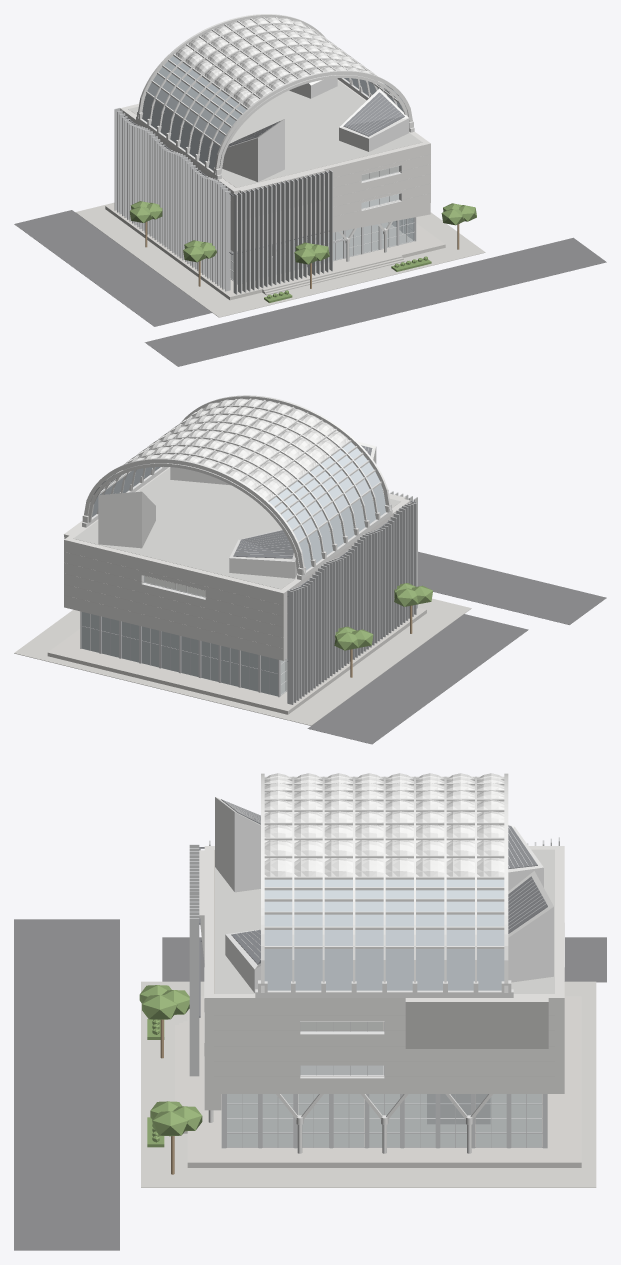
File: clay-vaulted-lecture-hall-clay-v003.glb
3 views of the same model, one above another, from view 1: azimuth 30°, elevation 25°; view 2: azimuth 150°, elevation 25°; view 3: azimuth 270°, elevation 25° (orthographic). The views are drawn at different scales.
Visible parts, largest first — view 1: CLAY_ASPHALT, CLAY_FIN, CLAY_WHITE, CLAY_WALL, CLAY_MEMBRANE, CLAY_SAND, CLAY_ROOF, CLAY_STONE, CLAY_VGLASS, CLAY_PLANTING, CLAY_GLASS, CLAY_LOUVRE (+1 smaller); view 2: CLAY_WHITE, CLAY_WALL, CLAY_ASPHALT, CLAY_FIN, CLAY_ROOF, CLAY_MEMBRANE, CLAY_TRIM, CLAY_SAND, CLAY_GLASS, CLAY_VGLASS, CLAY_STONE, CLAY_PLANTING (+2 smaller); view 3: CLAY_WALL, CLAY_ASPHALT, CLAY_WHITE, CLAY_STONE, CLAY_VGLASS, CLAY_MEMBRANE, CLAY_SAND, CLAY_GLASS, CLAY_TRIM, CLAY_ROOF, CLAY_FIN, CLAY_PLANTING (+3 smaller).
Part boxes in pixels (x1,y1,x2,y2): CLAY_ASPHALT: [14, 210, 606, 366]; CLAY_FIN: [114, 94, 402, 294]; CLAY_WHITE: [136, 14, 414, 279]; CLAY_WALL: [120, 79, 430, 251]; CLAY_MEMBRANE: [175, 16, 377, 107]; CLAY_SAND: [75, 202, 485, 317]; CLAY_ROOF: [128, 80, 422, 187]; CLAY_STONE: [105, 204, 445, 300]; CLAY_VGLASS: [142, 56, 405, 170]; CLAY_PLANTING: [129, 201, 476, 302]; CLAY_GLASS: [230, 166, 414, 281]; CLAY_LOUVRE: [228, 92, 404, 146]; CLAY_WHITE: [82, 395, 392, 599]; CLAY_WALL: [64, 467, 410, 660]; CLAY_ASPHALT: [307, 551, 606, 744]; CLAY_FIN: [122, 445, 417, 704]; CLAY_ROOF: [73, 468, 400, 589]; CLAY_MEMBRANE: [123, 398, 349, 500]; CLAY_TRIM: [80, 576, 287, 697]; CLAY_SAND: [14, 598, 471, 725]; CLAY_GLASS: [81, 576, 287, 696]; CLAY_VGLASS: [92, 442, 385, 570]; CLAY_STONE: [47, 607, 426, 714]; CLAY_PLANTING: [334, 583, 432, 650]; CLAY_WALL: [199, 846, 564, 1124]; CLAY_ASPHALT: [14, 919, 606, 1250]; CLAY_WHITE: [204, 773, 564, 1153]; CLAY_STONE: [175, 996, 581, 1167]; CLAY_VGLASS: [264, 879, 504, 990]; CLAY_MEMBRANE: [264, 773, 504, 876]; CLAY_SAND: [141, 981, 596, 1187]; CLAY_GLASS: [227, 1021, 541, 1146]; CLAY_TRIM: [221, 1021, 547, 1148]; CLAY_ROOF: [214, 849, 554, 993]; CLAY_FIN: [189, 800, 559, 1076]; CLAY_PLANTING: [139, 985, 202, 1147].
Size of the model in its own units: 74 by 30.15 by 56.
